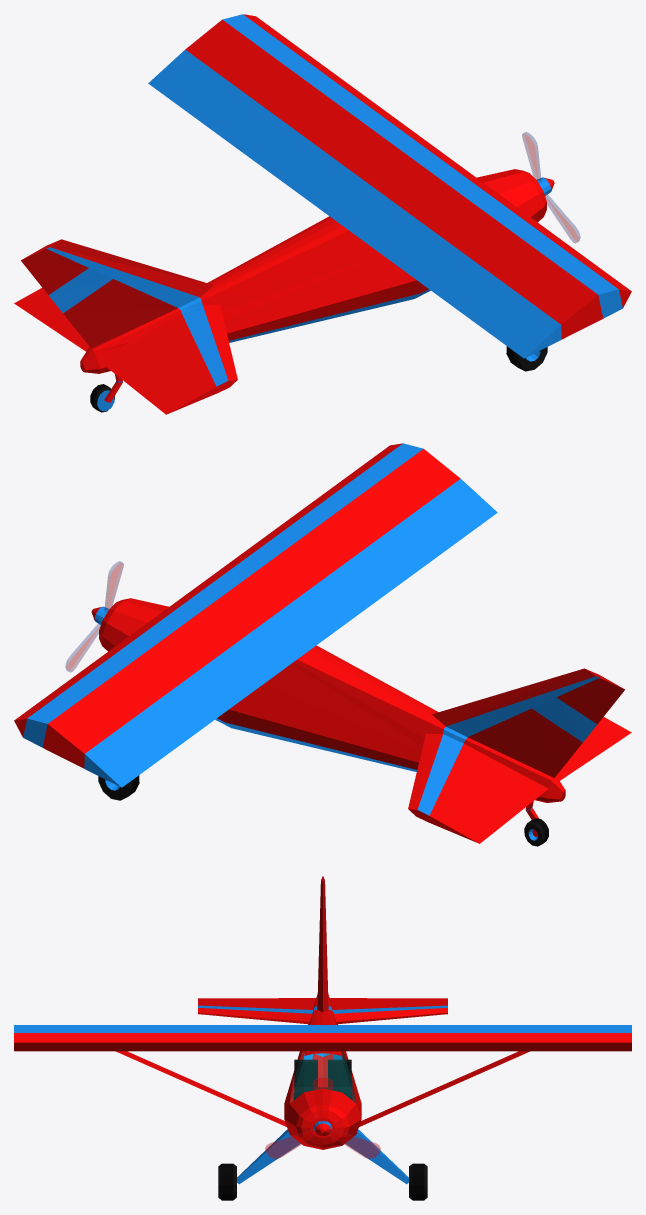
The model's file is aircraft.obj.
3 views of the same model, one above another, from view 1: azimuth 30°, elevation 25°; view 2: azimuth 150°, elevation 25°; view 3: azimuth 270°, elevation 25° (orthographic). The views are drawn at different scales.
Parts seen in each view (by area): view 1: Plane.002, Plane, Tail, Plane.001, Circle; view 2: Plane.002, Plane, Tail, Plane.001, Circle; view 3: Plane.002, Plane, Plane.001, Plane.003, Plane.008, Circle, SeatBack, Tail, wing.001, wing.002, wing.
Part boxes in pixels (x1,y1,x2,y2): Plane.002: (148,14,631,358); Plane: (80,169,546,373); Tail: (21,239,213,348); Plane.001: (14,287,237,414); Circle: (506,346,547,371); Plane.002: (14,443,497,787); Plane: (99,598,565,802); Tail: (432,668,624,777); Plane.001: (408,717,631,843); Circle: (98,775,139,800); Plane.002: (14,1025,631,1051); Plane: (284,994,361,1149); Plane.001: (198,998,447,1024); Plane.003: (237,1129,408,1184); Plane.008: (116,1051,529,1126); Circle: (218,1163,427,1200); SeatBack: (294,1059,351,1086); Tail: (317,876,328,1012); wing.001: (328,1129,380,1158); wing.002: (265,1129,317,1158); wing: (313,1077,332,1121).
Size of the model in its own units: 9 by 3 by 11.
